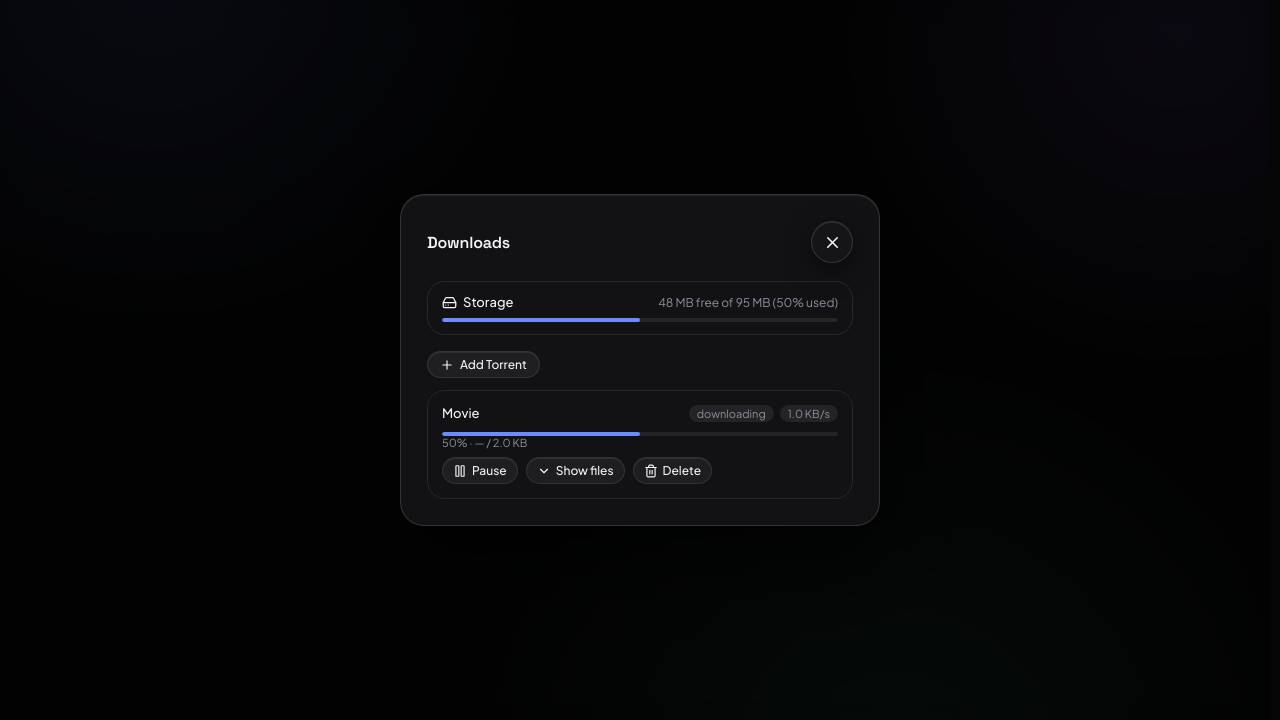
DownloadsModal › lists downloads with progress and expands to show selected files
Check: the text "Movie" is shown, box 442,405 -> 480,421
Check: the text "downloading" is shown, box 689,405 -> 774,422
Step 1. Click the button "Show files" → [575, 470], box 526,457 -> 625,484
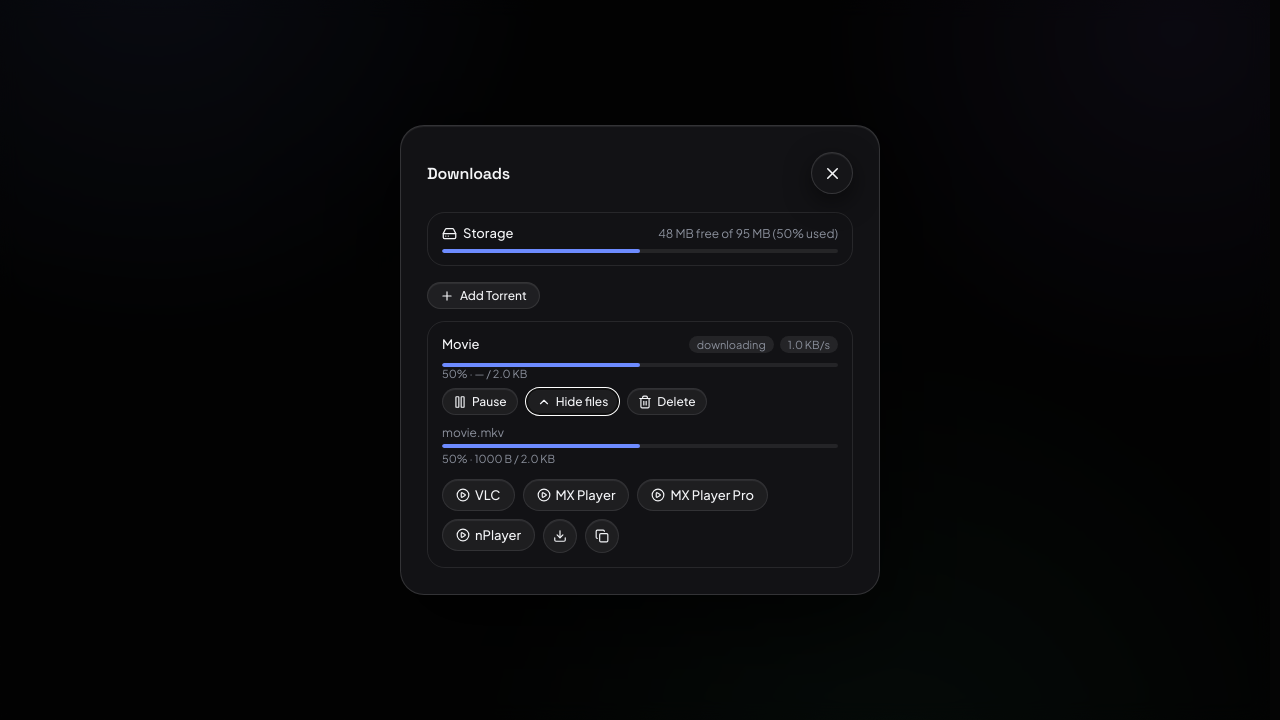
Check: the text "movie.mkv" is shown, box 442,425 -> 504,440
Check: the button "VLC" is shown, box 442,479 -> 514,511
Check: the button named "download file" is shown, box 543,519 -> 577,553
